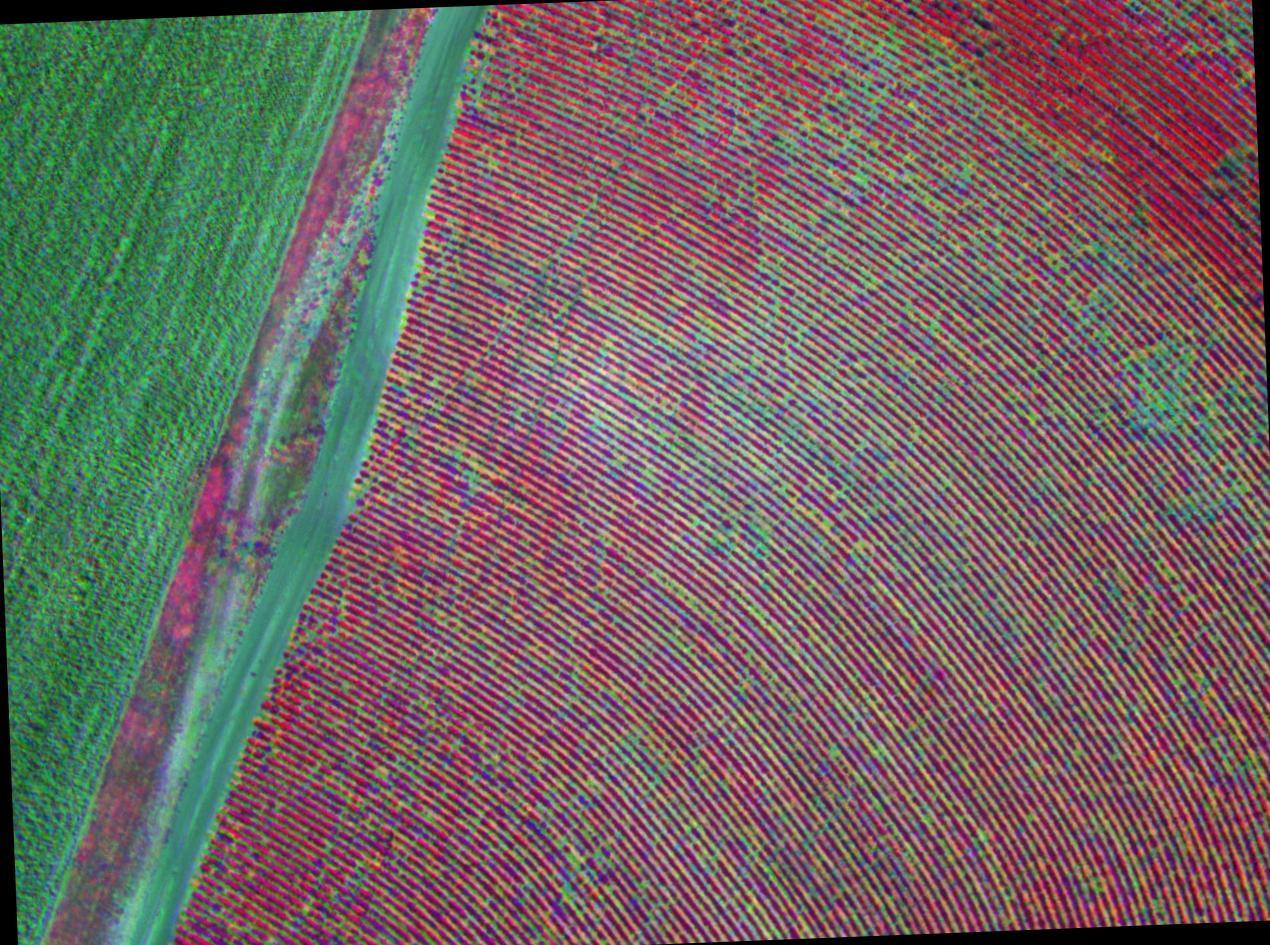dc: (456, 452, 461, 457), (500, 279, 504, 284), (783, 484, 787, 488), (695, 518, 699, 522)
